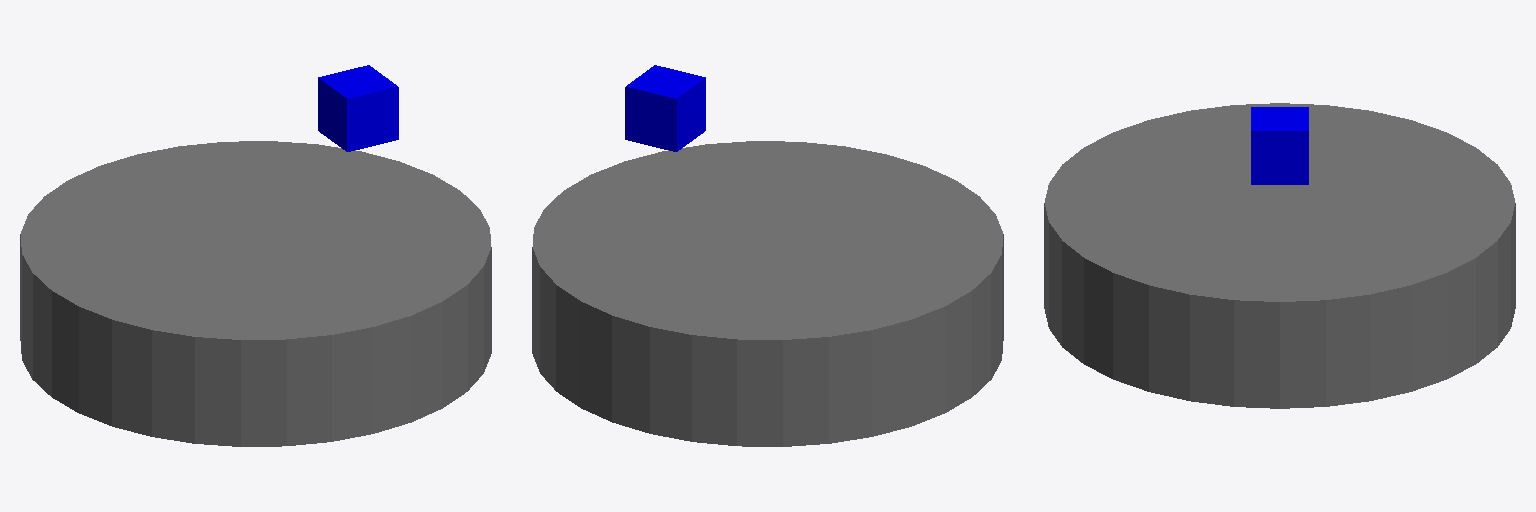
URDF robot description (omnibot):
<?xml version="1.0"?>
<robot name="omnibot">

  <!-- [HW_CONFIG] 底盘主体 — 根据实际底盘尺寸和重量修改 -->
  <link name="base_link">
    <visual>
      <geometry>
        <cylinder radius="0.2" length="0.1"/>  <!-- [HW_CONFIG] radius=底盘半径(m), length=底盘高度(m) -->
      </geometry>
      <material name="gray">
        <color rgba="0.5 0.5 0.5 1.0"/>
      </material>
    </visual>
    <collision>
      <geometry>
        <cylinder radius="0.2" length="0.1"/>  <!-- [HW_CONFIG] 碰撞模型尺寸，应与 visual 一致 -->
      </geometry>
    </collision>
    <inertial>
      <mass value="10.0"/>  <!-- [HW_CONFIG] 底盘总质量(kg) -->
      <inertia ixx="0.1" ixy="0.0" ixz="0.0" iyy="0.1" iyz="0.0" izz="0.1"/>  <!-- [HW_CONFIG] 转动惯量矩阵，根据实际质量分布计算 -->
    </inertial>
  </link>

  <!-- [HW_CONFIG] 2D LiDAR 安装位置 — 根据实际安装偏移修改 -->
  <link name="laser_frame">
    <visual>
      <geometry>
        <box size="0.05 0.05 0.05"/>  <!-- [HW_CONFIG] LiDAR 外观尺寸，仅可视化 -->
      </geometry>
      <material name="blue">
        <color rgba="0.0 0.0 1.0 1.0"/>
      </material>
    </visual>
    <inertial>
      <mass value="0.001"/>
      <inertia ixx="0.00001" ixy="0.0" ixz="0.0" iyy="0.00001" iyz="0.0" izz="0.00001"/>
    </inertial>
  </link>

  <!-- [HW_CONFIG] LiDAR joint: x=前后偏移(m), y=左右偏移(m), z=安装高度(m) -->
  <joint name="laser_joint" type="fixed">
    <parent link="base_link"/>
    <child link="laser_frame"/>
    <origin xyz="0.1 0 0.15" rpy="0 0 0"/>  <!-- [HW_CONFIG] x: 前方为正 | y: 左侧为正 | z: 上方为正 -->
  </joint>

</robot>

--- Facts derived from the render (not from the file) ---
3 views of the same robot in one strip: view 1: azimuth 30°, elevation 25°; view 2: azimuth 150°, elevation 25°; view 3: azimuth 270°, elevation 25° (orthographic).
Model omnibot with 2 links and 1 joints (1 fixed), rooted at base_link, posed all joints at 0.
Links seen in each view (by area): view 1: base_link, laser_frame; view 2: base_link, laser_frame; view 3: base_link, laser_frame.
Link boxes in pixels (x1=…): base_link: x1=20, y1=141, x2=491, y2=446; laser_frame: x1=318, y1=65, x2=398, y2=151; base_link: x1=532, y1=141, x2=1003, y2=446; laser_frame: x1=625, y1=65, x2=705, y2=151; base_link: x1=1044, y1=103, x2=1515, y2=408; laser_frame: x1=1251, y1=107, x2=1308, y2=184.
Bounding box of the posed robot: 0.4 × 0.4 × 0.225 m (x, y, z).
Geometry: primitives only (box / cylinder / sphere), no mesh files.
